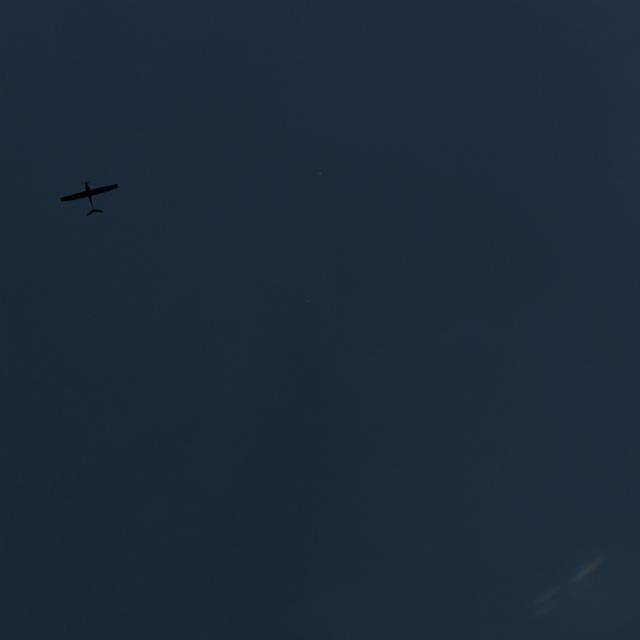Airaplan: (60, 181, 118, 215)
